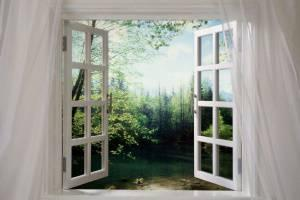window: (58, 11, 248, 194)
